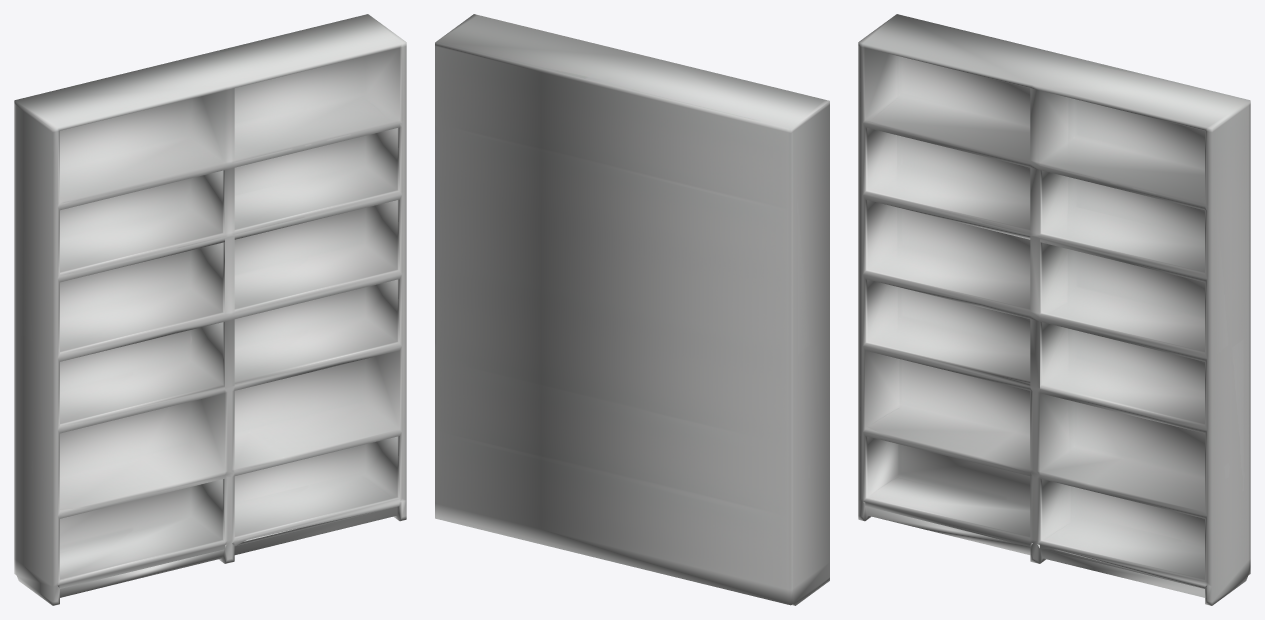
File: bookshell.fbx
The picture shows the model from 3 angles, left to right: view 1: azimuth 30°, elevation 25°; view 2: azimuth 150°, elevation 25°; view 3: azimuth 330°, elevation 25°; orthographic projection.
Parts seen in each view (by area): view 1: texture_v100; view 2: texture_v100; view 3: texture_v100.
Part boxes in pixels (<box>): texture_v100: <box>14,14,406,605</box>; texture_v100: <box>435,14,829,605</box>; texture_v100: <box>858,14,1250,605</box>.
Bounding box in the file's own units: 147 × 190 × 27.93.
1 material, 1 textured.
